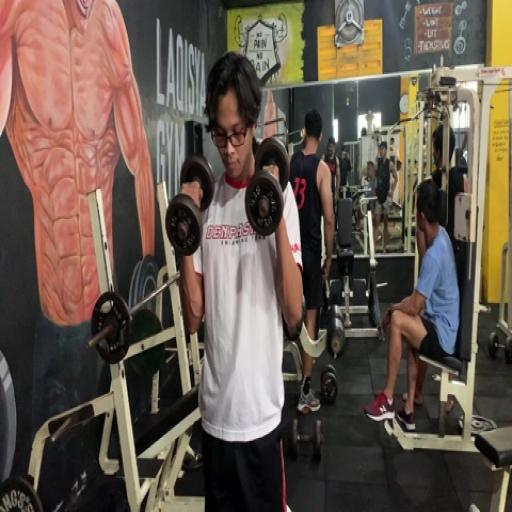exercise: (176, 50, 307, 510), (362, 178, 463, 434)
